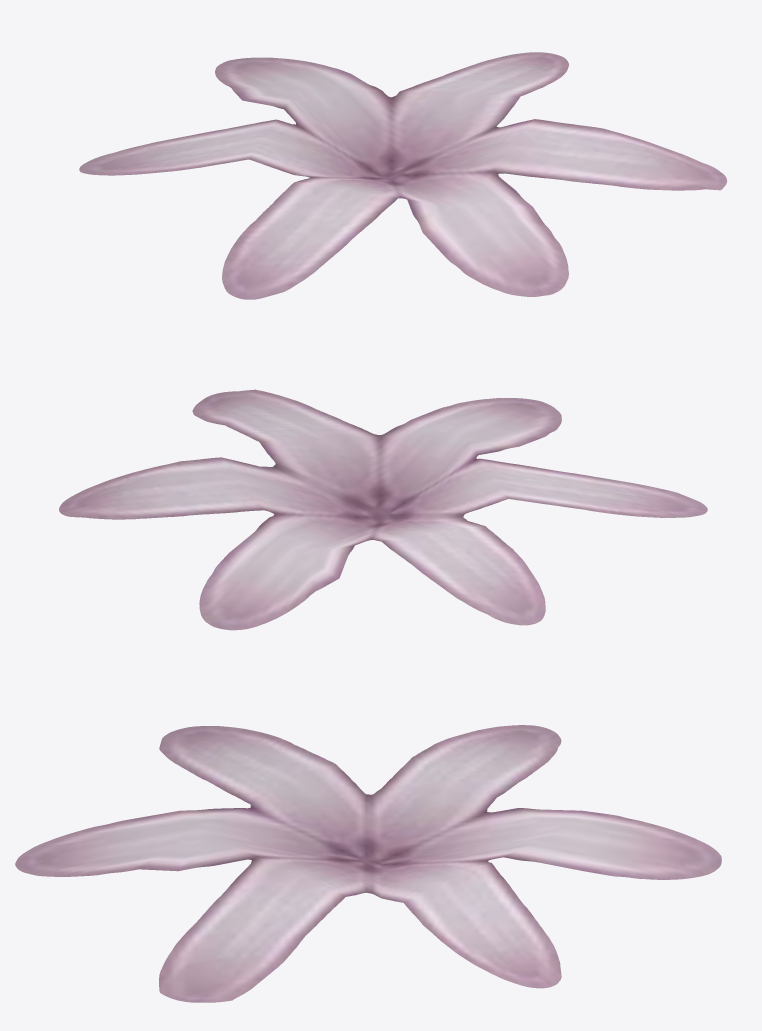
File: flower04.glb
3 renders of one model, top to bottom at view 1: azimuth 30°, elevation 25°; view 2: azimuth 150°, elevation 25°; view 3: azimuth 270°, elevation 25°, orthographic. The views are drawn at different scales.
Parts seen in each view (by area): view 1: Flower04; view 2: Flower04; view 3: Flower04.
Boxes of the visible parts, bbox=[...] form: Flower04: bbox=[79, 52, 726, 299]; Flower04: bbox=[59, 389, 707, 630]; Flower04: bbox=[15, 725, 721, 1002].
Size of the model in its own units: 0.6029 by 0.0375 by 0.6029.
Materials: 1 (1 with a texture image).
